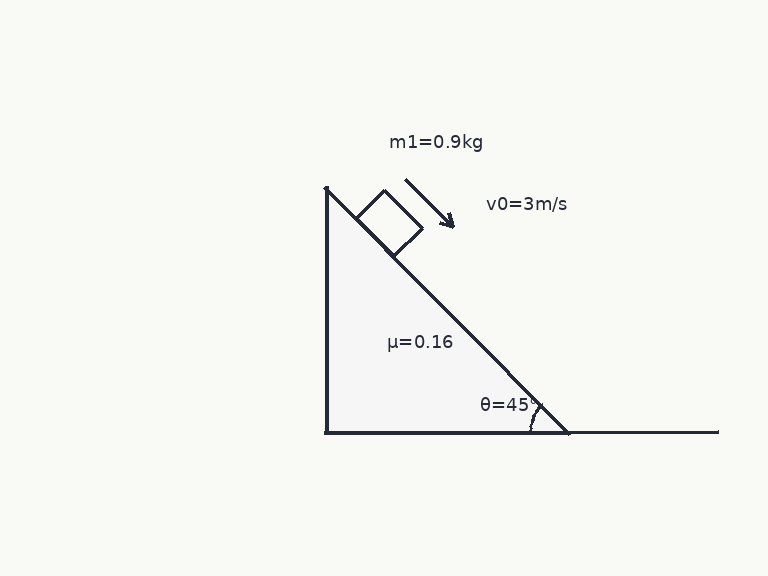block: (354, 188, 423, 258)
ramp: (323, 185, 572, 434)
